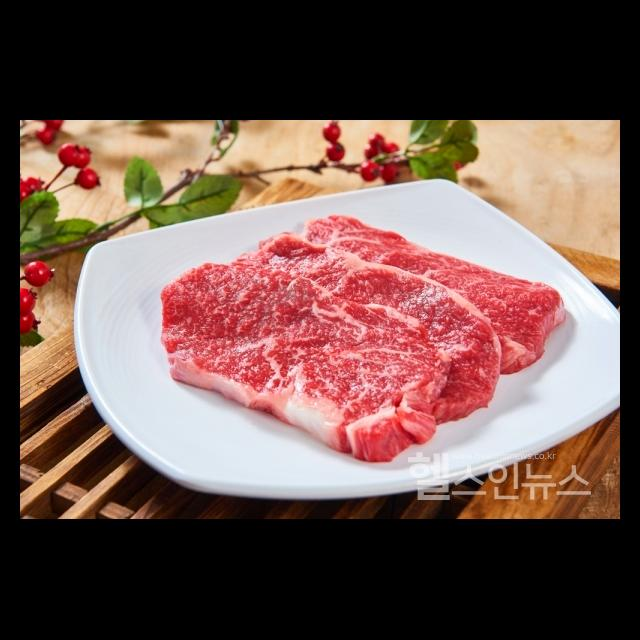beef: (161, 213, 567, 464)
